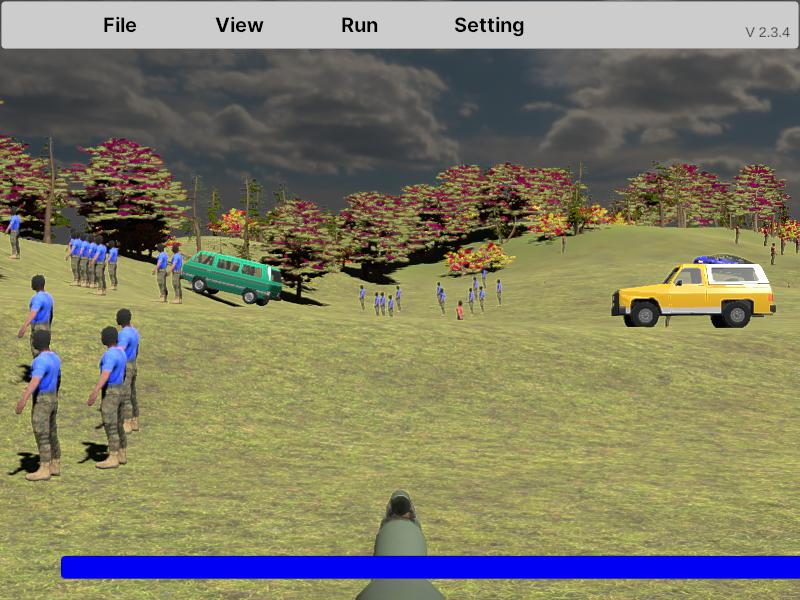Human: (15, 326, 61, 481), (87, 325, 128, 468), (17, 273, 55, 392), (111, 307, 140, 434), (152, 243, 170, 304), (167, 244, 183, 304)
car: (611, 262, 777, 330), (182, 251, 282, 307)
